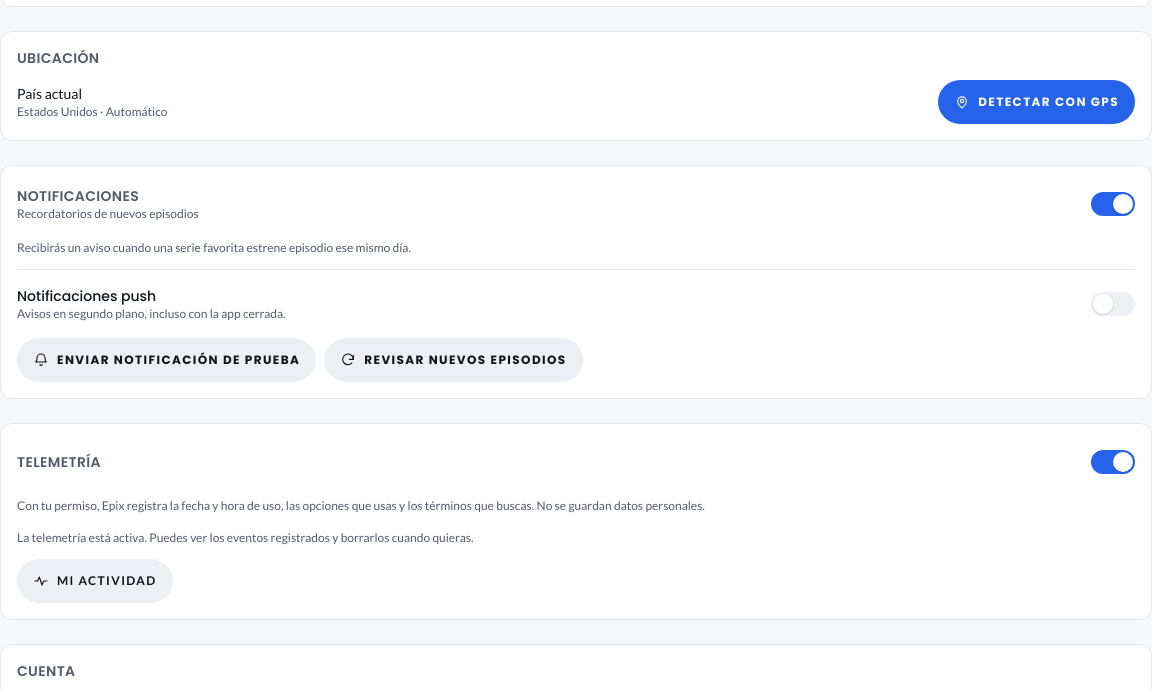
Test: ProfileScreen · notificaciones (RF-10) › envía una notificación de prueba con deep link a favoritos
The width and height of the screenshot is (1152, 690).
(page scrolled)
Click the button "Enviar notificación de prueba". click: point(167, 360)
box: left=17, top=338, right=316, bottom=382
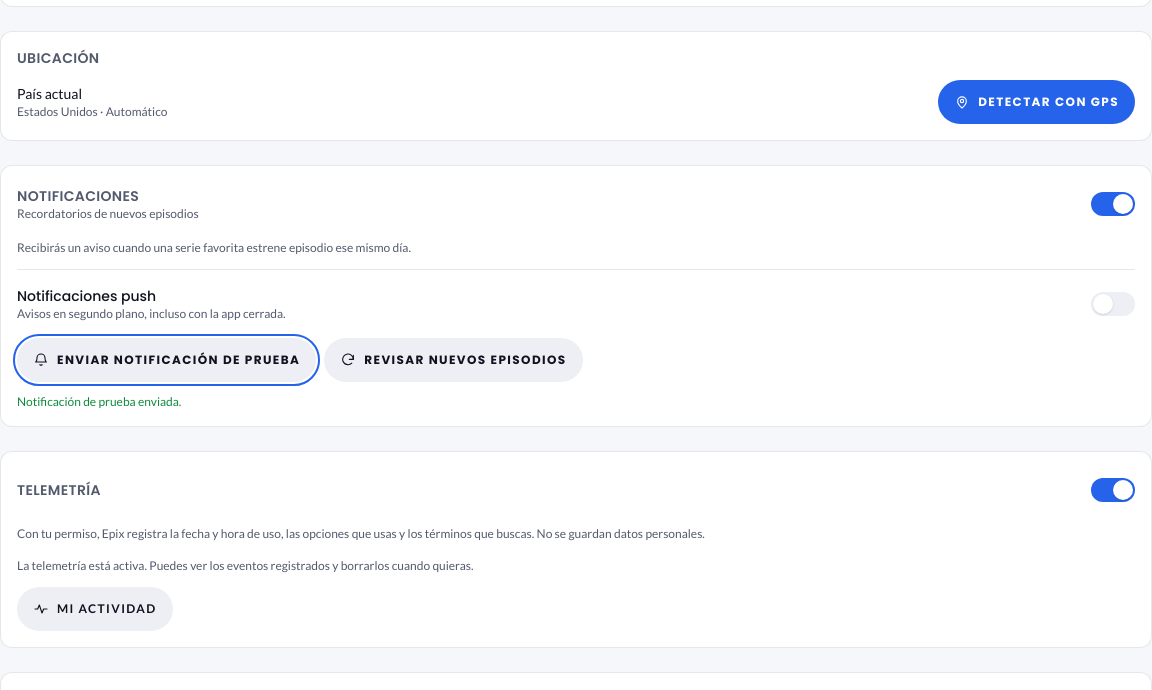
Expected: the text "Notificación de prueba enviada." is shown, left=17, top=394, right=181, bottom=409
